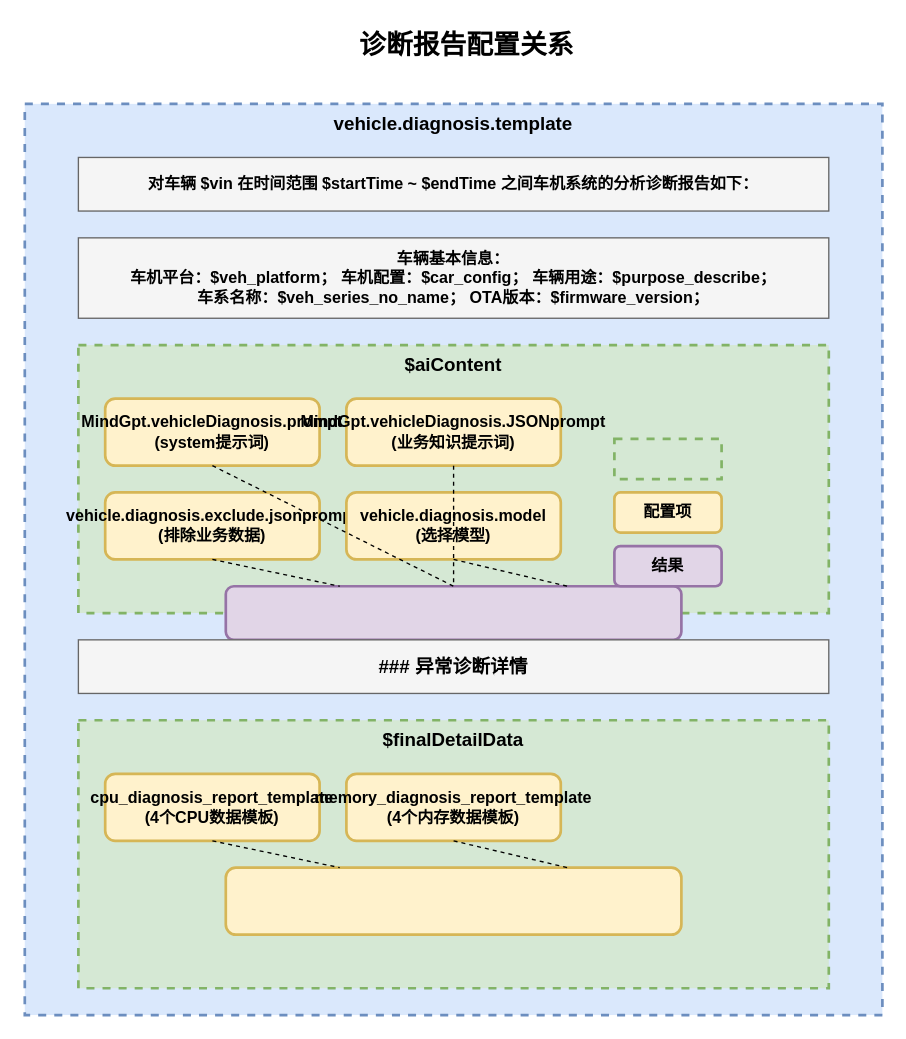
The diagram is 906 pixels wide and 1039 high, and some of its shapes have lost their labels. The shapes that lost their labels are listed below. From the top down, each one's centre as x and y in pixels, then its label:
[667,458]: 容器
[453,612]: aiContent结果
[453,900]: crs.data.diagnosis.custom (自定义诊断项)
